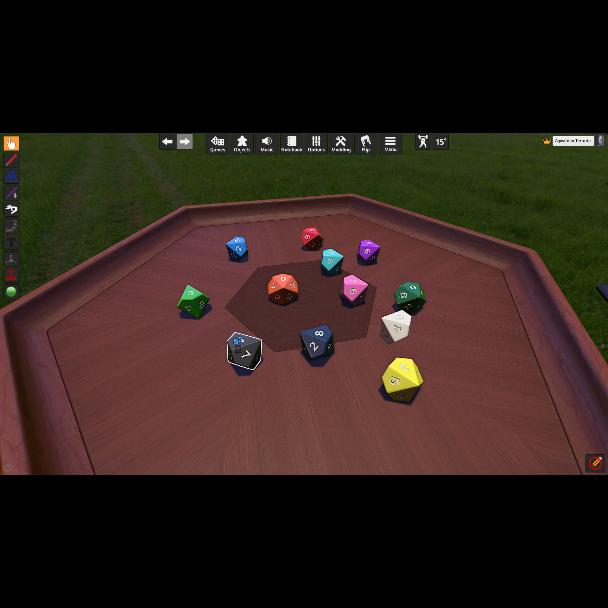d10: (382, 357, 422, 401), (226, 332, 262, 370), (177, 286, 211, 320), (300, 326, 332, 361), (268, 273, 300, 305), (396, 282, 426, 316), (380, 310, 410, 344), (339, 272, 366, 304), (226, 236, 248, 262), (321, 248, 343, 274), (357, 240, 379, 264), (303, 228, 323, 250)
